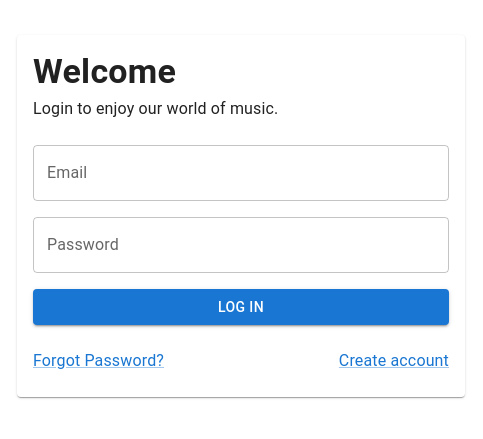
Scenario: LoginPage › shows validation messages for empty fields
Step 1. Click the button "Log in" → (241, 307), box [33,289,449,325]
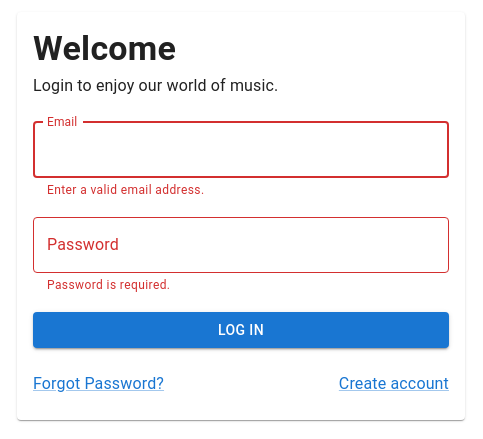
Expected: the text "Enter a valid email address." is shown, [47,183,204,197]
Expected: the text "Password is required." is shown, [47,278,170,292]
